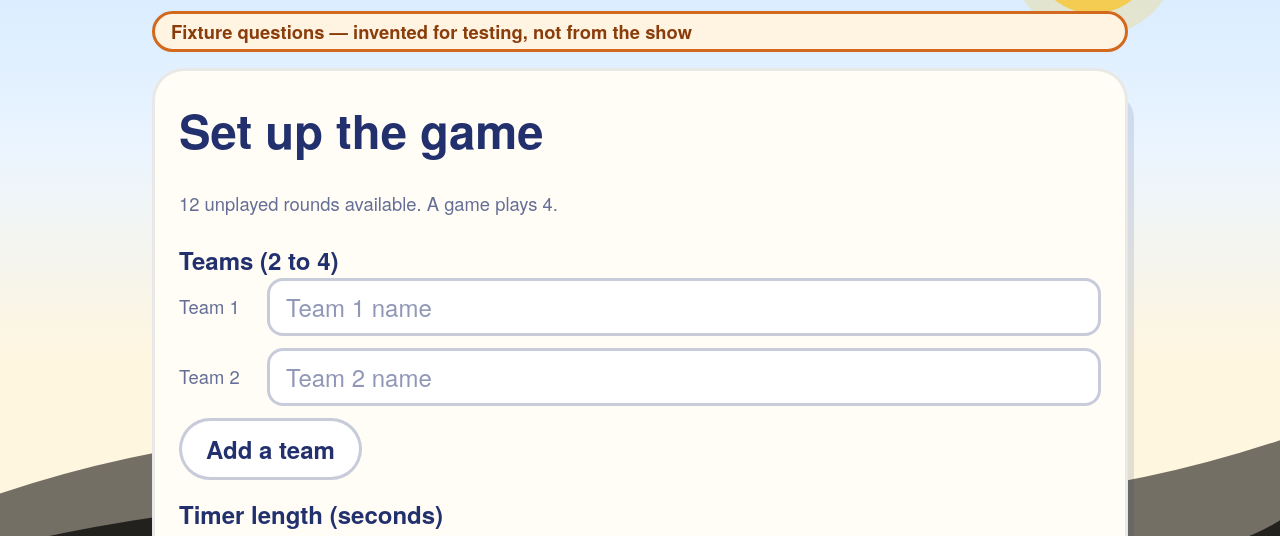
Test: setup › starts the game once two teams are named
Type "Alpha" into the field named "Team 1 name".
click(684, 307); type("Alpha")  # box x1=267 y1=278 x2=1101 y2=336
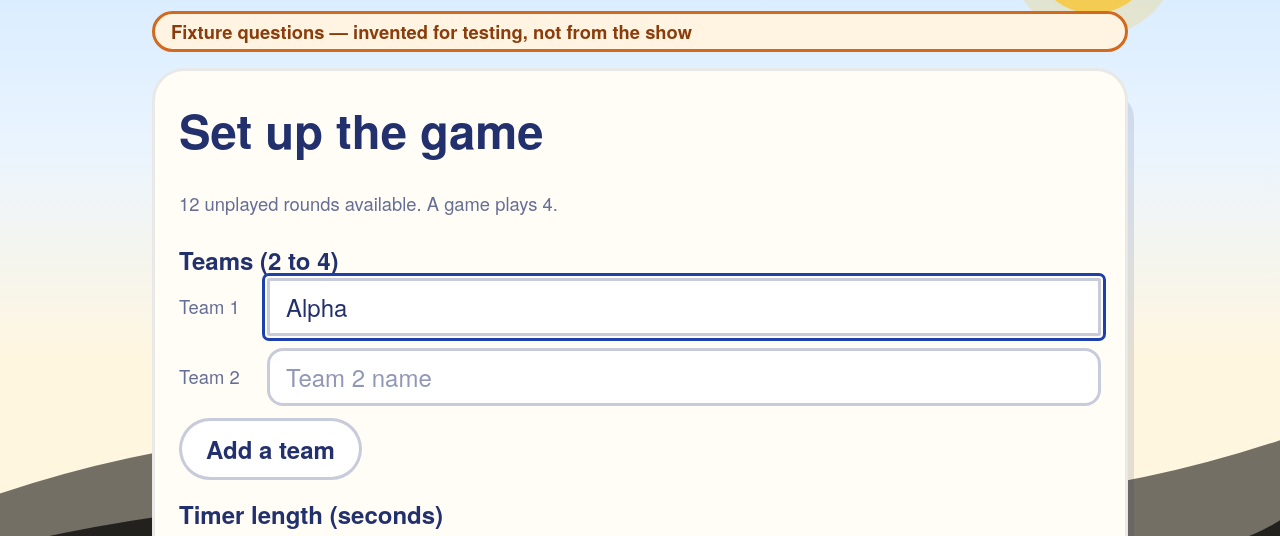
Type "Bravo" into the field named "Team 2 name".
click(684, 377); type("Bravo")  # box x1=267 y1=348 x2=1101 y2=406
(page scrolled)
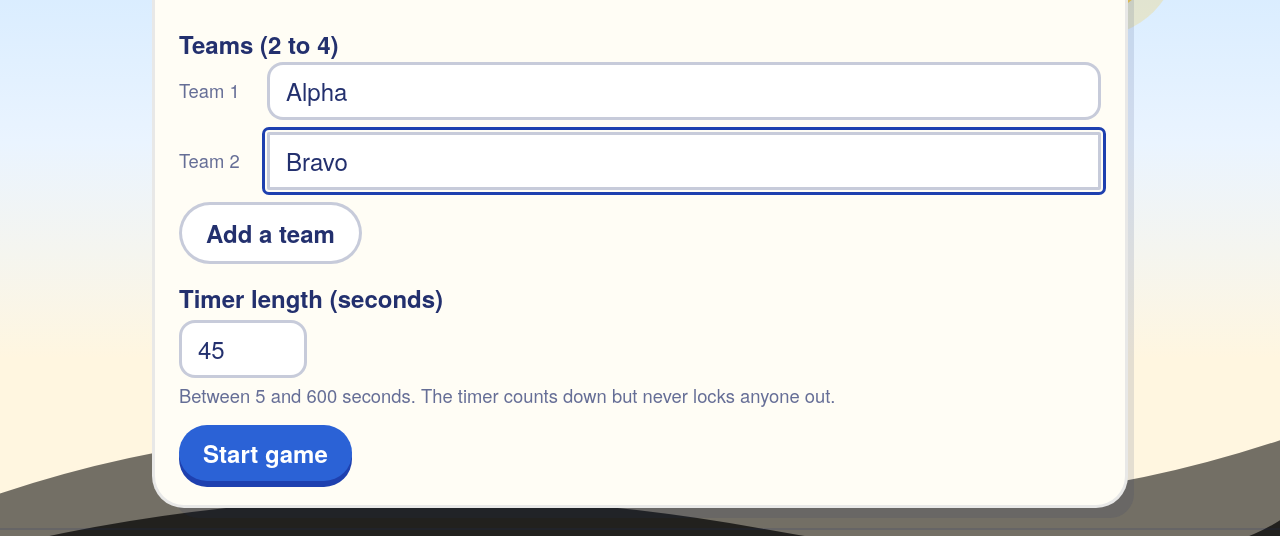
Click the button "Start game".
click(265, 453)  # box x1=179 y1=425 x2=352 y2=481
(page scrolled)
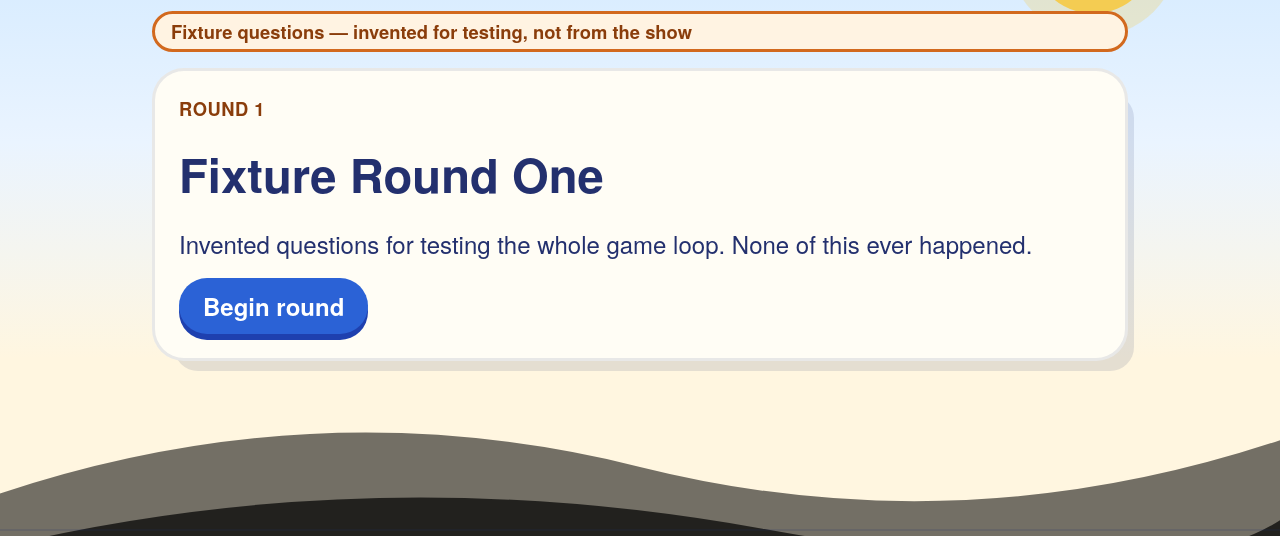
Result: the text "Round 1" is shown at x1=179 y1=95 x2=265 y2=122
Result: the button "Begin round" is shown at x1=179 y1=278 x2=368 y2=334
